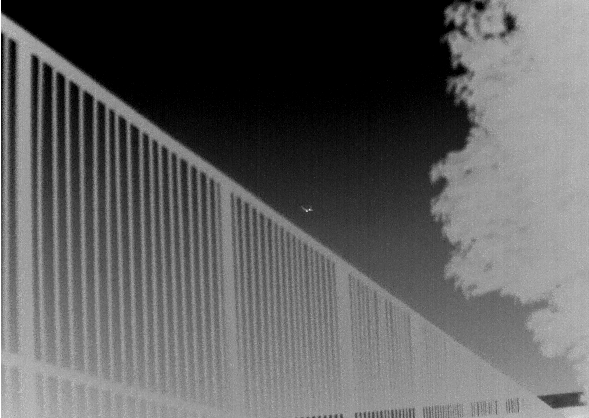dim target: (300, 204, 313, 213)
